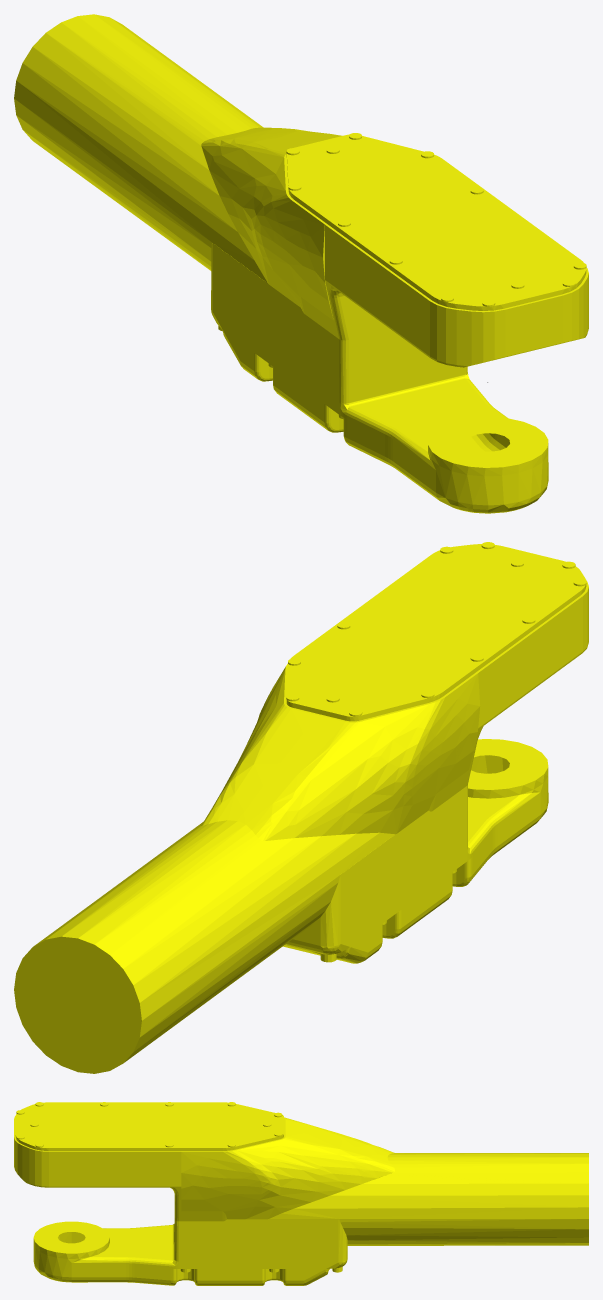
3 renders of one model, top to bottom at view 1: azimuth 30°, elevation 25°; view 2: azimuth 150°, elevation 25°; view 3: azimuth 270°, elevation 25°, orthographic. The views are drawn at different scales.
Parts seen in each view (by area): view 1: node; view 2: node; view 3: node.
Part boxes in pixels (bbox=[...]): node: bbox=[14, 14, 588, 513]; node: bbox=[14, 542, 588, 1073]; node: bbox=[14, 1102, 588, 1285].
Size of the model in its own units: 123 by 172 by 618.
